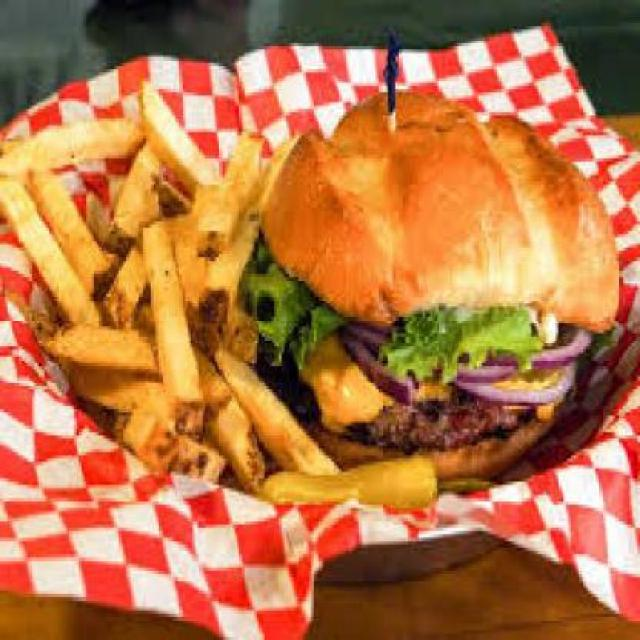french fries: (5, 82, 282, 486)
hamburger: (274, 70, 628, 498)
